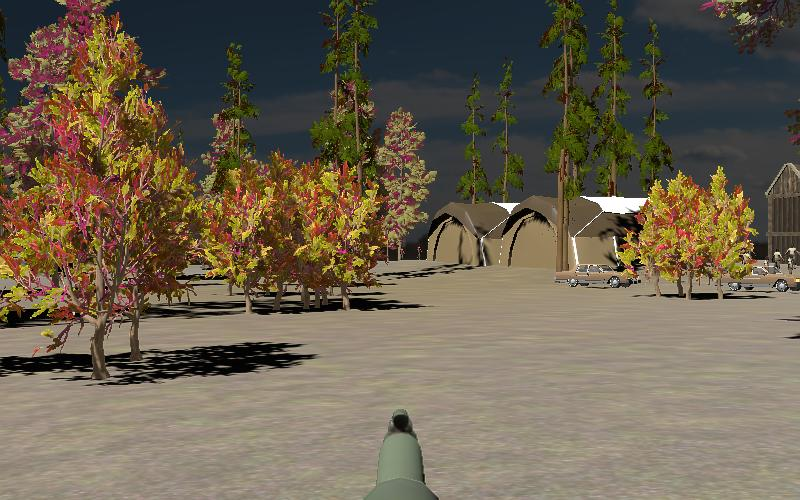House: (764, 161, 800, 267)
car: (716, 259, 799, 294), (551, 260, 641, 291)
